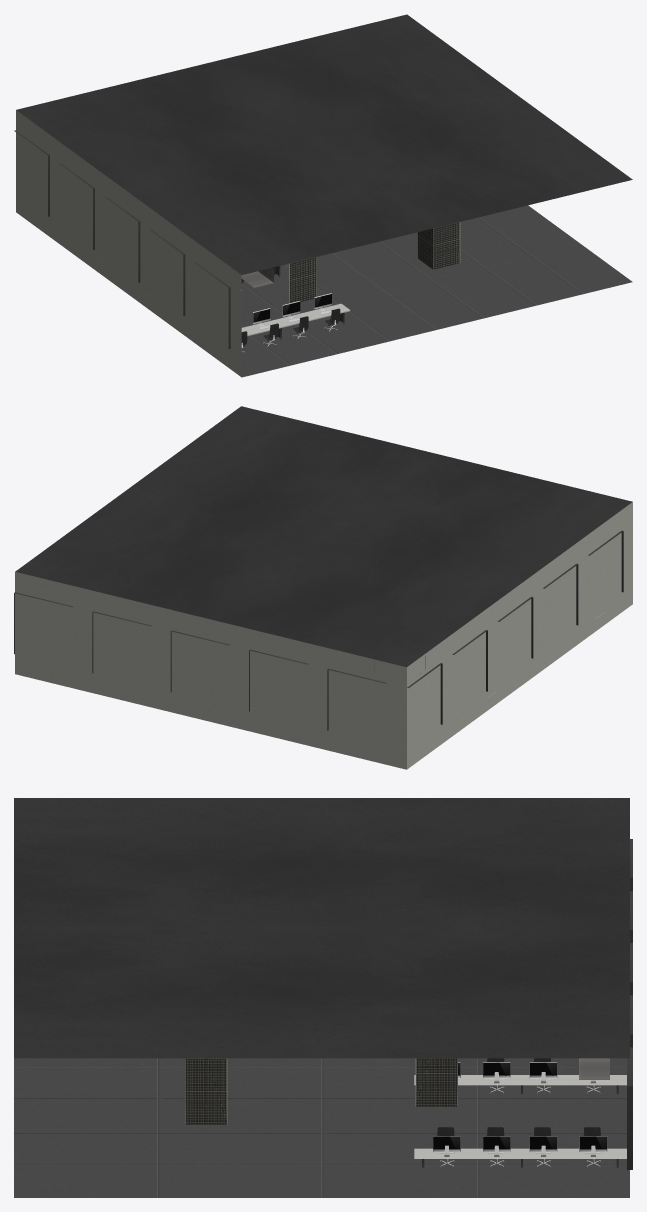
File: cluster_corner_right.dae
3 renders of one model, top to bottom at view 1: azimuth 30°, elevation 25°; view 2: azimuth 150°, elevation 25°; view 3: azimuth 270°, elevation 25°, orthographic. The views are drawn at different scales.
Visible parts, largest first — view 1: cluster_corner_right; view 2: cluster_corner_right; view 3: cluster_corner_right.
Part boxes in pixels (left/top/right/bottom): cluster_corner_right: left=14, top=14, right=632, bottom=377; cluster_corner_right: left=14, top=406, right=632, bottom=769; cluster_corner_right: left=14, top=798, right=632, bottom=1197.
Size of the model in its own units: 20.11 by 20.11 by 5.02.
1 material, 1 textured.
